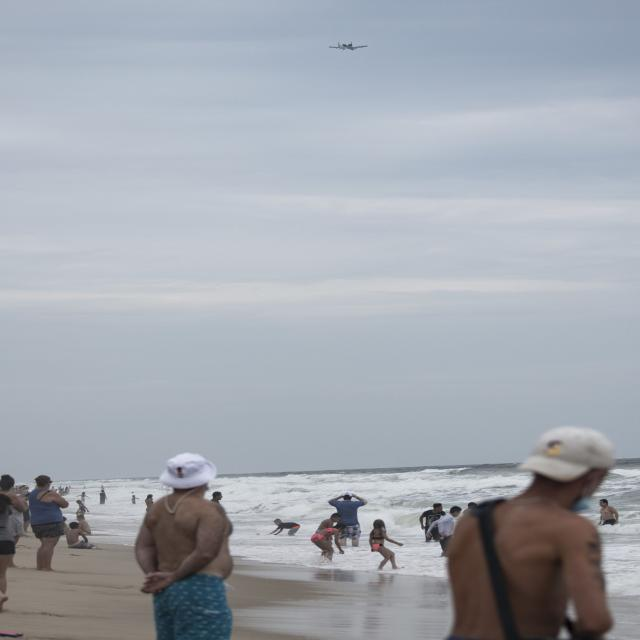MIL_Plane: (329, 41, 368, 50)
